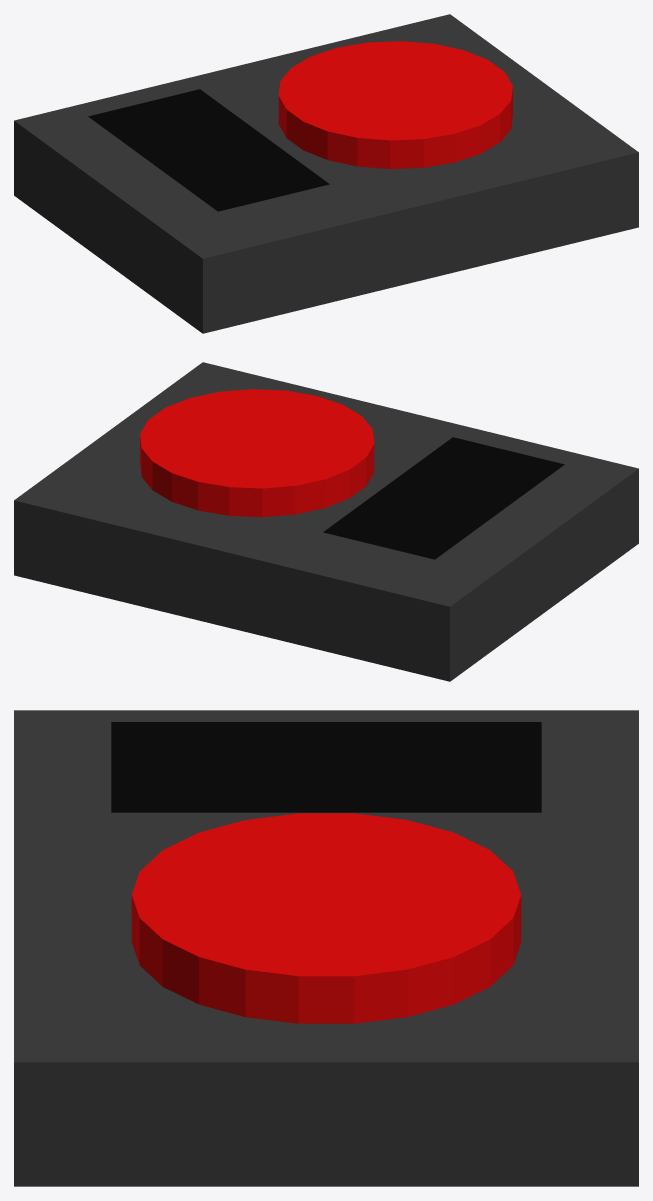
File: Time Device 0.2.fbx
3 renders of one model, top to bottom at view 1: azimuth 30°, elevation 25°; view 2: azimuth 150°, elevation 25°; view 3: azimuth 270°, elevation 25°, orthographic. The views are drawn at different scales.
Visible parts, largest first — view 1: Plane; view 2: Plane; view 3: Plane.
Part boxes in pixels (x1,y1,x2,y2): Plane: [14, 14, 638, 333]; Plane: [14, 362, 638, 681]; Plane: [14, 710, 638, 1186].
Size of the model in its own units: 145 by 32.87 by 108.
